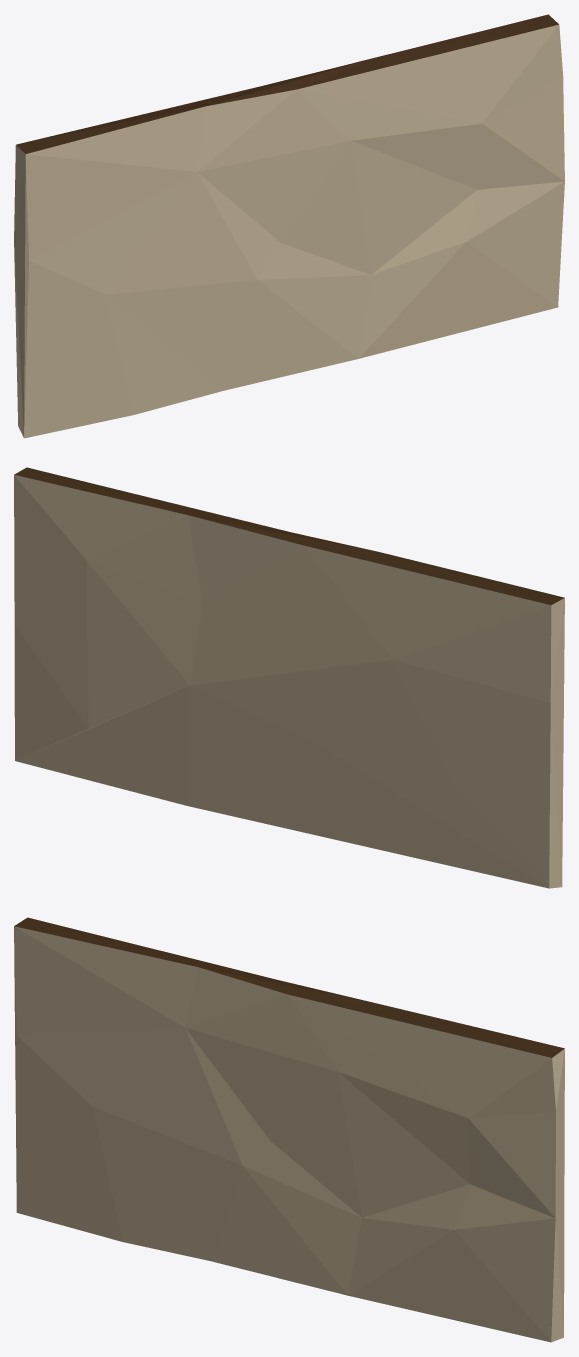
Rendered from cubicle_wall.fbx.
3 views of the same model, one above another, from view 1: azimuth 30°, elevation 25°; view 2: azimuth 150°, elevation 25°; view 3: azimuth 330°, elevation 25° (orthographic).
Parts seen in each view (by area): view 1: cubicle_wall; view 2: cubicle_wall; view 3: cubicle_wall.
Boxes of the visible parts, x1,y1,x2,y2 form: cubicle_wall: (14,14,564,438); cubicle_wall: (14,467,564,888); cubicle_wall: (14,917,564,1342).
Bounding box in the file's own units: 4.1 × 2.11 × 0.2235.
1 material, 1 textured.
